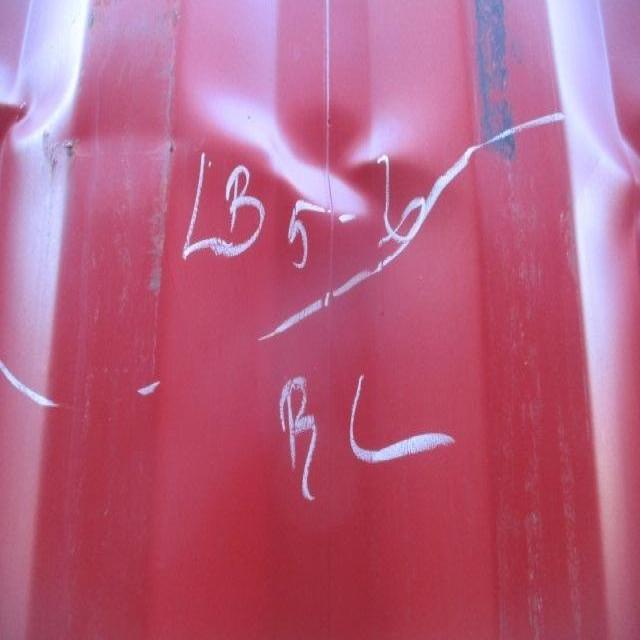dent: (2, 62, 640, 264)
